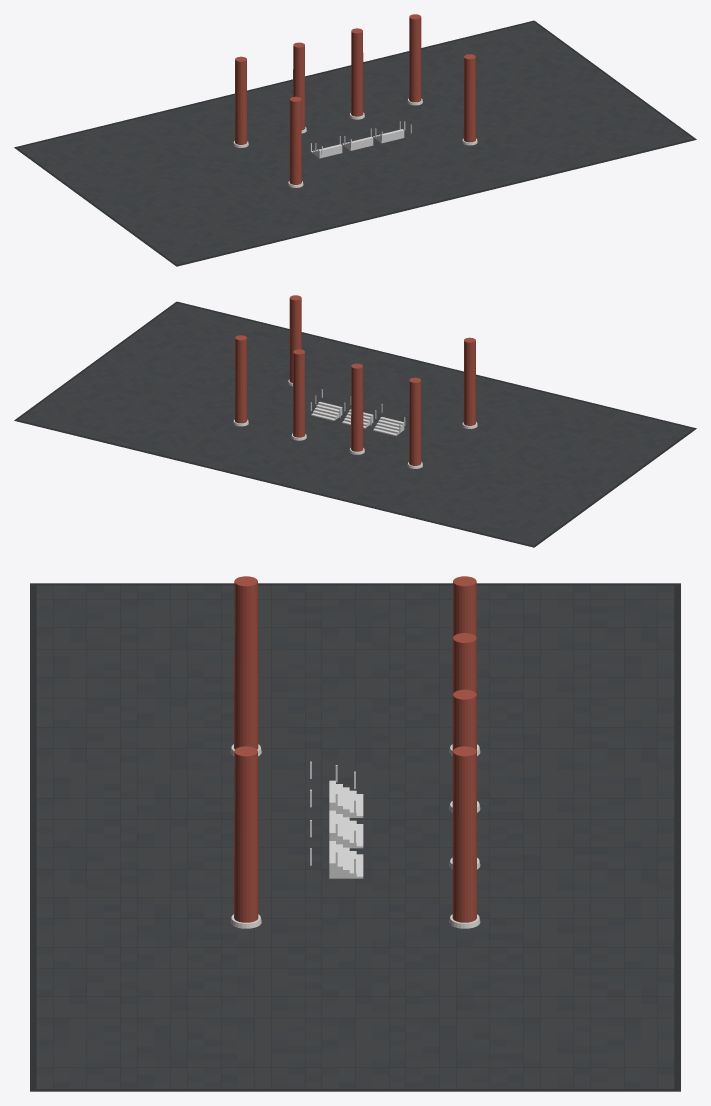
The model's file is qianqing-r32.glb.
3 views of the same model, one above another, from view 1: azimuth 30°, elevation 25°; view 2: azimuth 150°, elevation 25°; view 3: azimuth 270°, elevation 25° (orthographic). The views are drawn at different scales.
Visible parts, largest first — view 1: floor_tiles, merged_red_lacquer, floor_base; view 2: floor_tiles, merged_red_lacquer, floor_base; view 3: floor_tiles, floor_base, merged_red_lacquer, merged_stone.
Boxes of the visible parts, x1,y1,x2,y2 form: floor_tiles: (18,22,692,264); merged_red_lacquer: (235,14,475,184); floor_base: (14,20,696,266); floor_tiles: (18,303,692,545); merged_red_lacquer: (235,295,475,465); floor_base: (14,301,696,547); floor_tiles: (36,585,674,1088); floor_base: (30,583,680,1091); merged_red_lacquer: (234,576,476,922); merged_stone: (230,744,480,928).
Size of the model in its own units: 45.8 by 7.24 by 24.8.
